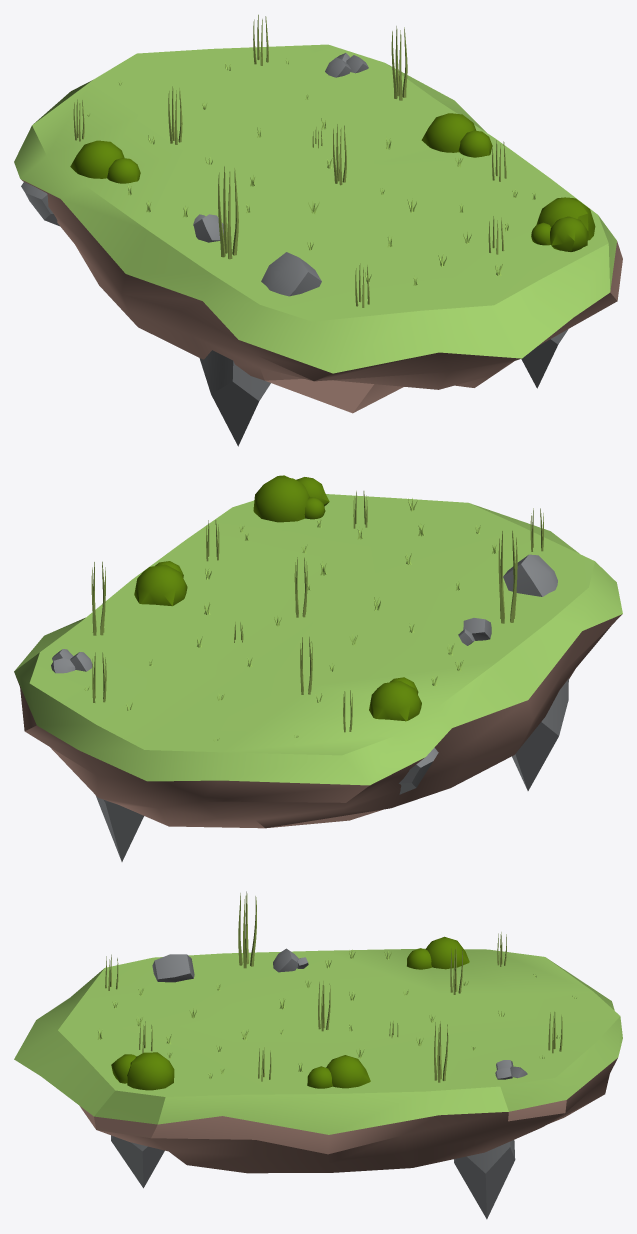
The model's file is short_spring.fbx.
3 views of the same model, one above another, from view 1: azimuth 30°, elevation 25°; view 2: azimuth 150°, elevation 25°; view 3: azimuth 270°, elevation 25° (orthographic). The views are drawn at different scales.
Visible parts, largest first — view 1: IslandLong_Spring.001; view 2: IslandLong_Spring.001; view 3: IslandLong_Spring.001.
Boxes of the visible parts, x1,y1,x2,y2 form: IslandLong_Spring.001: [14, 14, 622, 446]; IslandLong_Spring.001: [14, 475, 622, 861]; IslandLong_Spring.001: [14, 891, 622, 1219].
Size of the model in its own units: 7.22 by 4.55 by 10.9.
